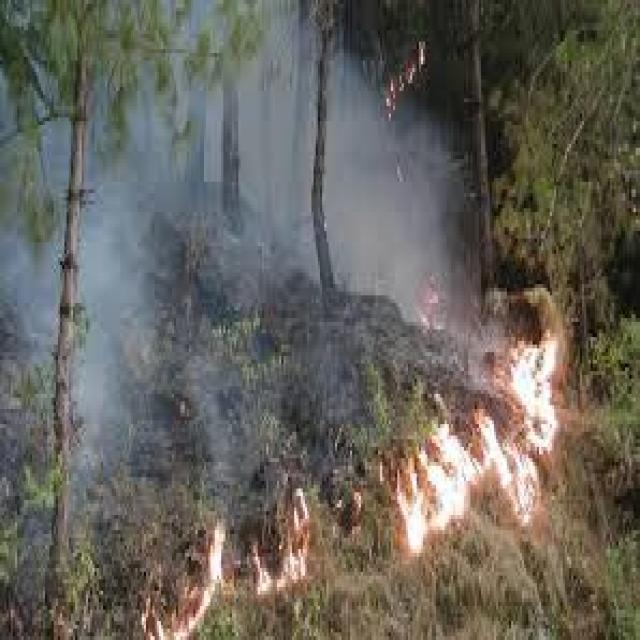Fire: (384, 273, 572, 586), (136, 454, 364, 640), (364, 13, 441, 145)
Smoke: (85, 196, 303, 444), (344, 169, 482, 395), (246, 55, 310, 278)
